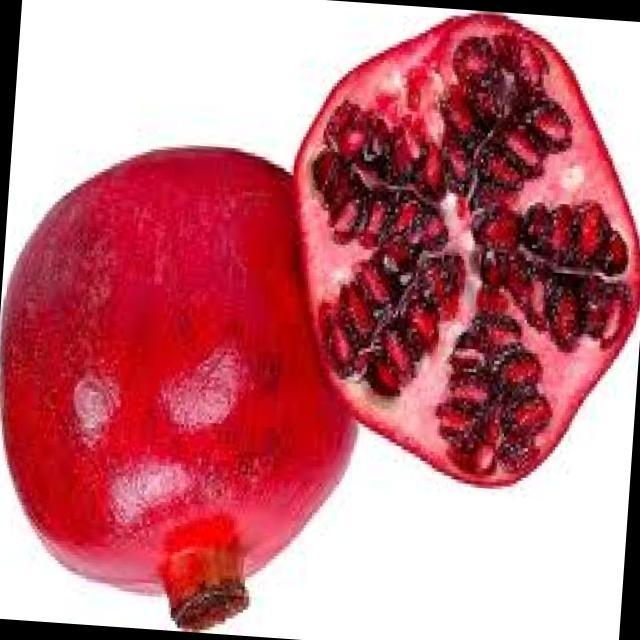Pomegranate: (258, 7, 640, 510)
